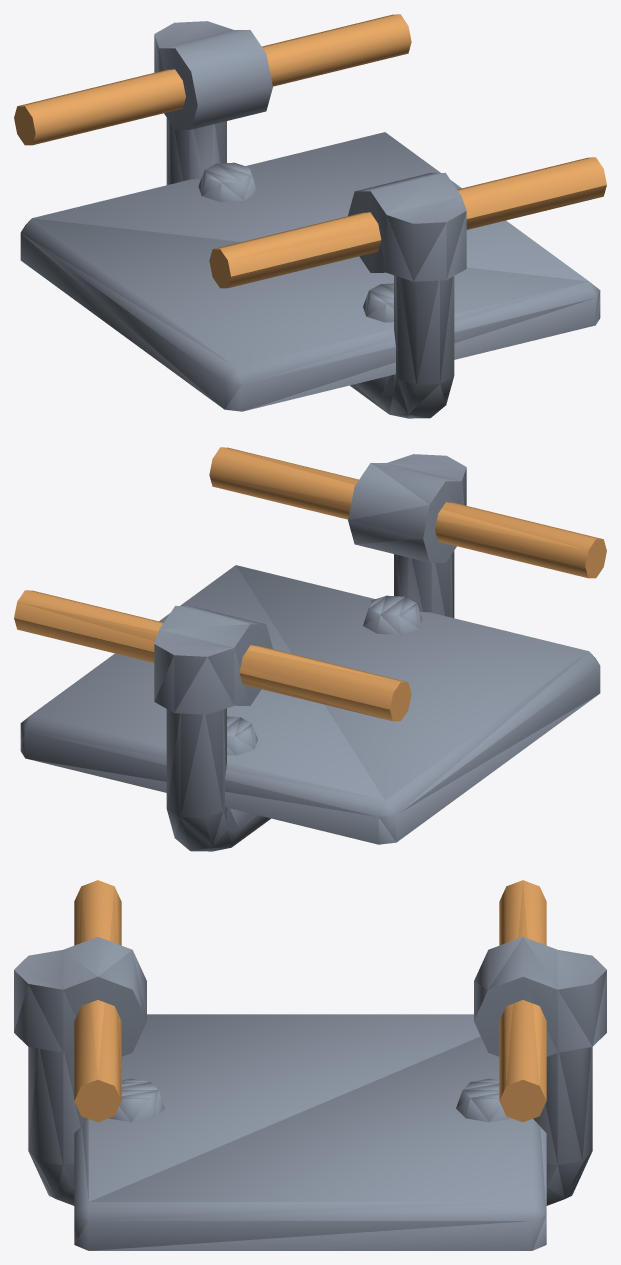
File: factory_catwalk_straight.fbx
3 views of the same model, one above another, from view 1: azimuth 30°, elevation 25°; view 2: azimuth 150°, elevation 25°; view 3: azimuth 270°, elevation 25° (orthographic). The views are drawn at different scales.
Visible parts, largest first — view 1: factory_catwalk_straight_LOD0; view 2: factory_catwalk_straight_LOD0; view 3: factory_catwalk_straight_LOD0.
Part boxes in pixels (bbox=[...]): factory_catwalk_straight_LOD0: bbox=[14, 14, 606, 418]; factory_catwalk_straight_LOD0: bbox=[14, 447, 606, 851]; factory_catwalk_straight_LOD0: bbox=[14, 880, 606, 1250].
Size of what is drawn, in the model's own units: 2 by 1.2 by 2.51.
Materials: 1 (1 with a texture image).
